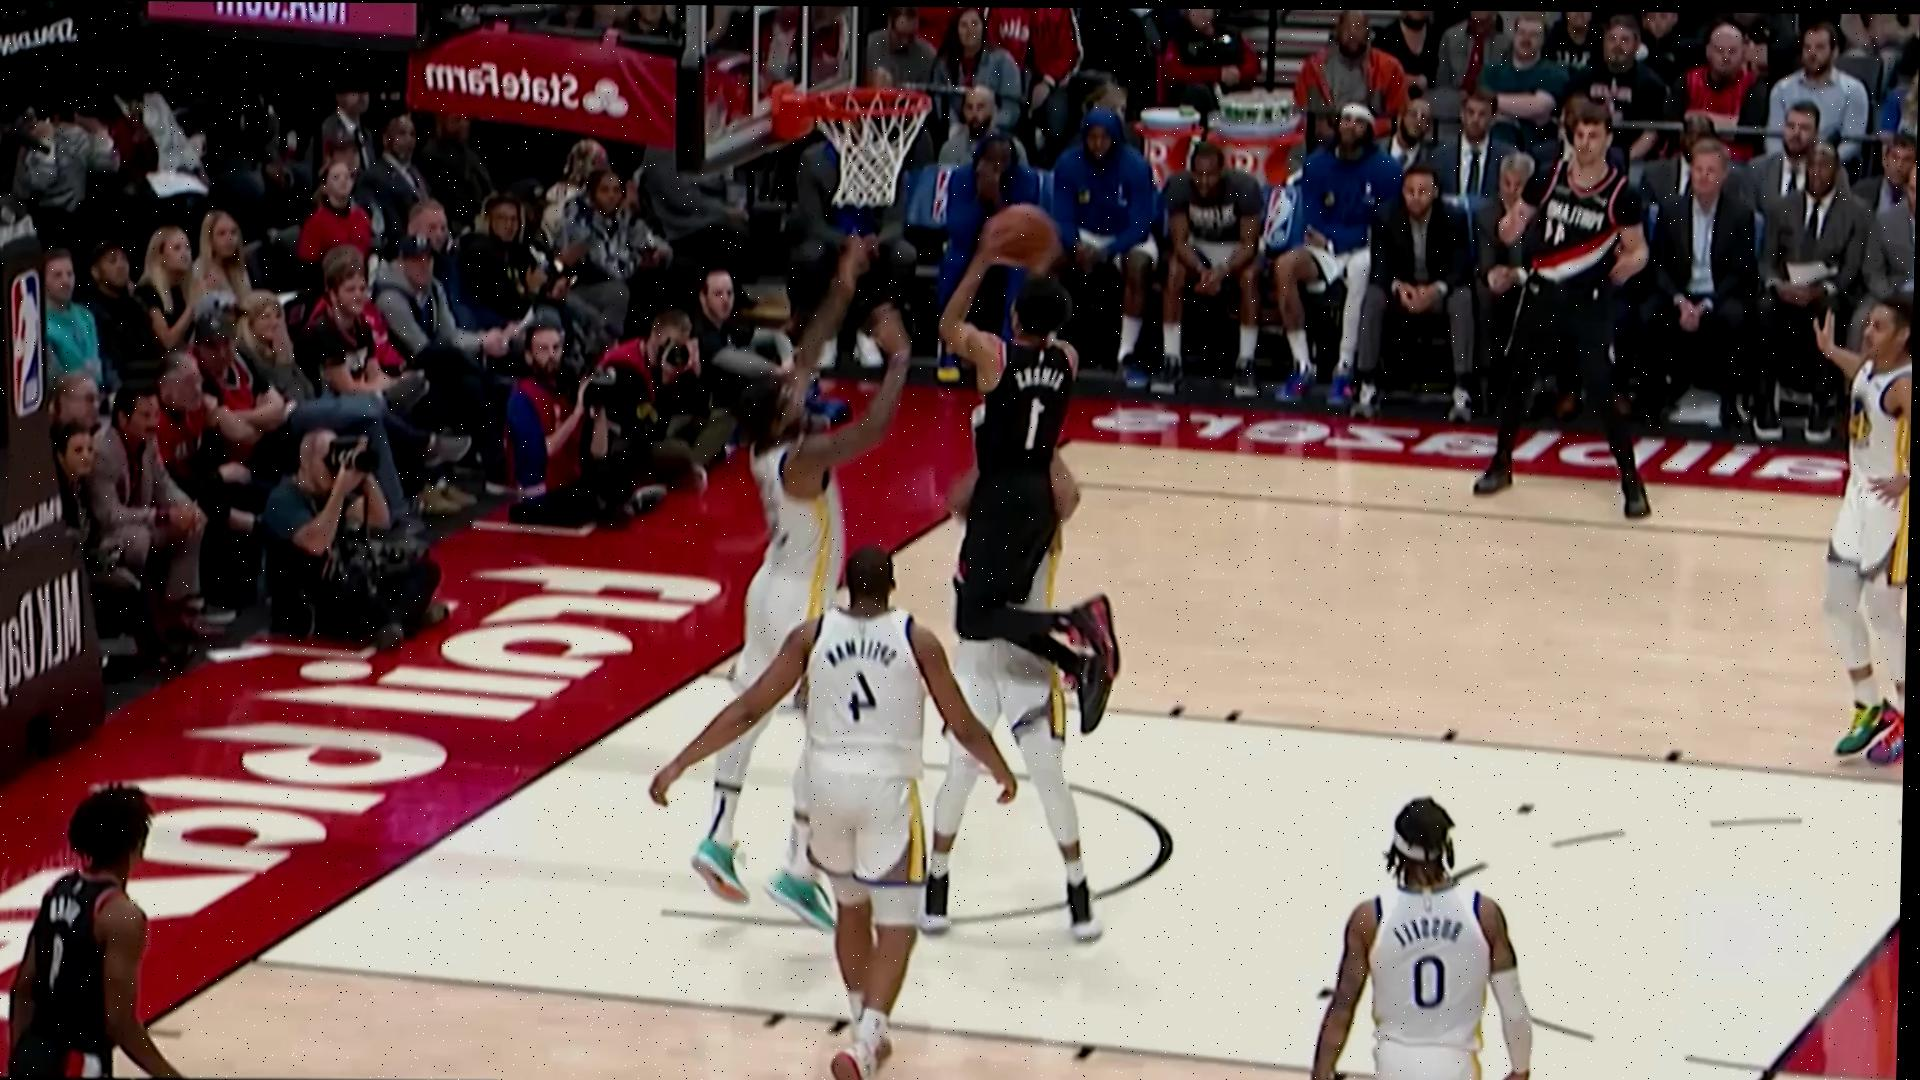foul: (968, 294, 1093, 860)
